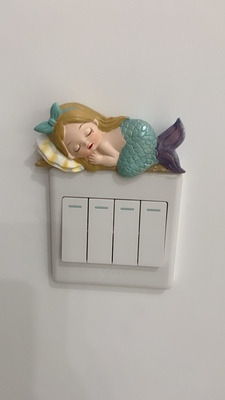switch: (56, 189, 91, 266), (108, 195, 143, 272), (82, 191, 116, 268), (137, 198, 171, 271)
